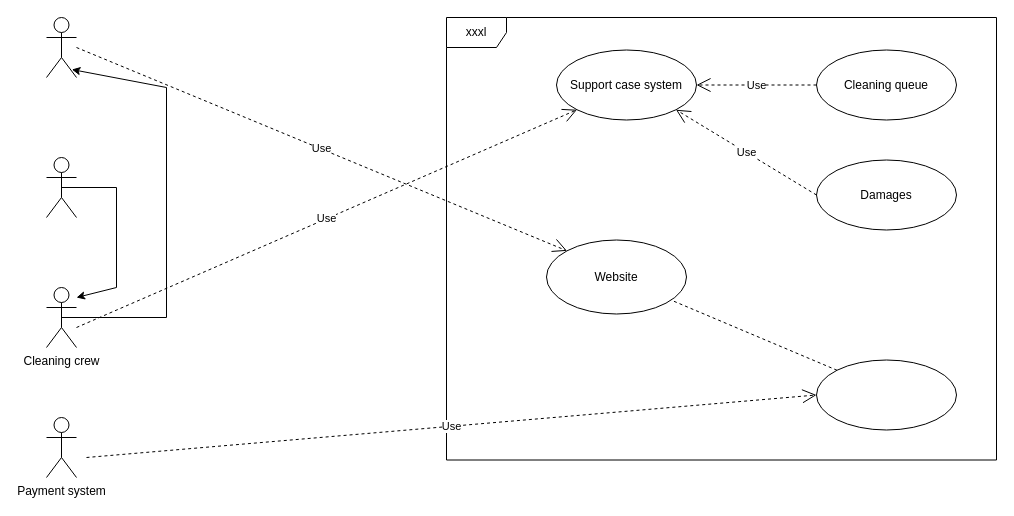
The diagram is 1014 pixels wide and 516 high, and some of its shapes have lost their labels. Each missing label, with the centre of its shape:
Clerk: (61,187)
Customer: (61,47)
Reservations in calendar: (886,394)
